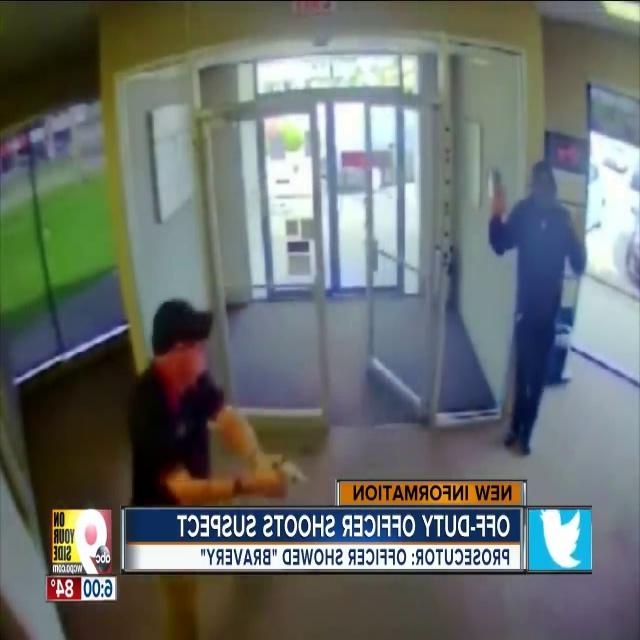gun: (255, 447, 313, 489)
